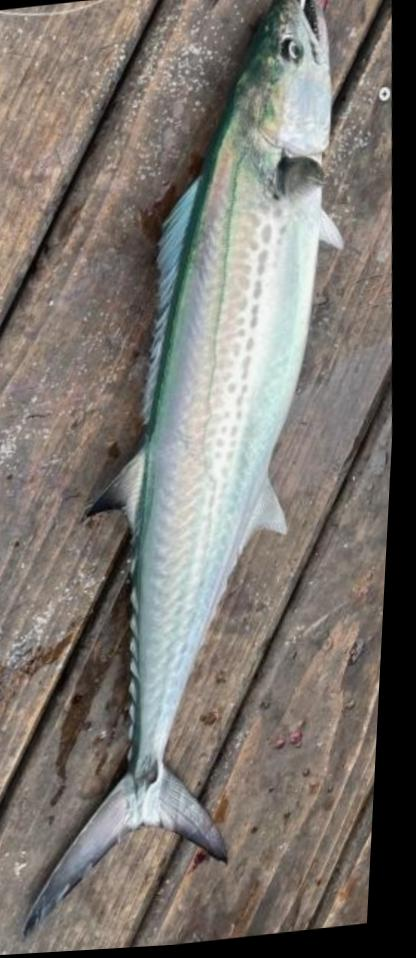fish: (33, 0, 343, 936)
